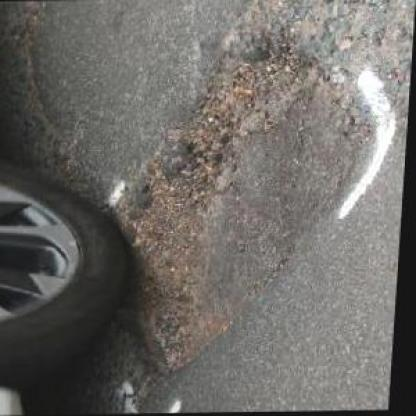pothole: (108, 47, 336, 377)
